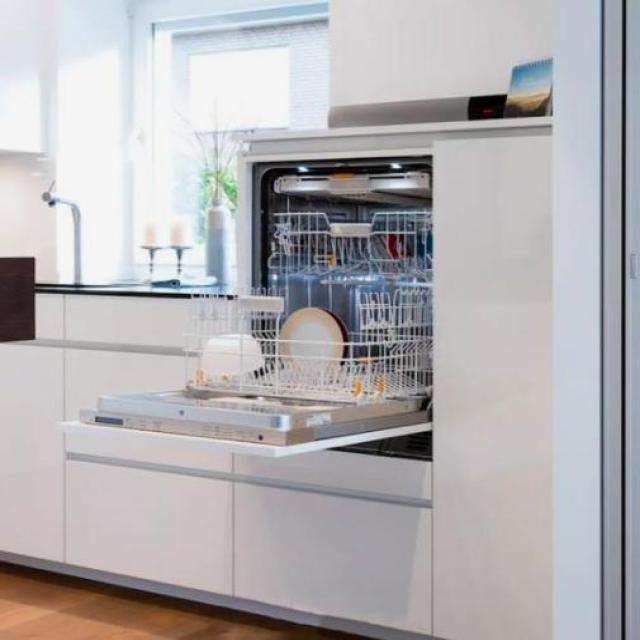dishwasher: (54, 142, 431, 462)
